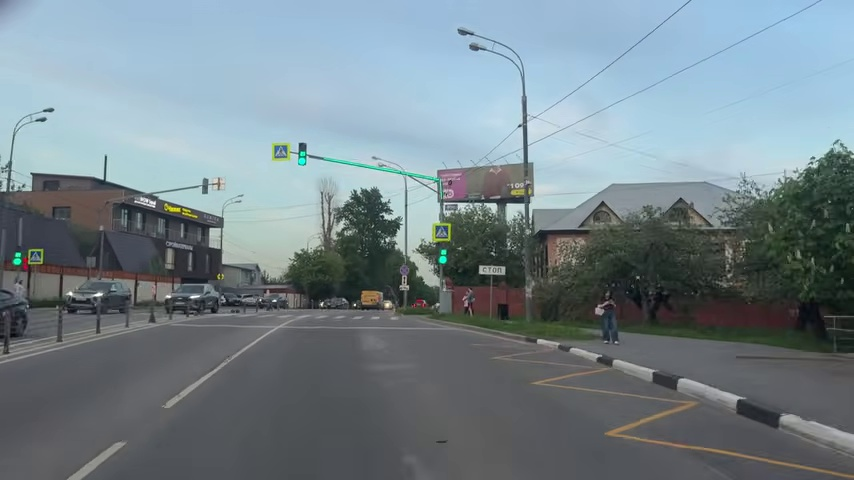apagada: (458, 34, 489, 58), (457, 29, 483, 55), (455, 25, 477, 46), (33, 108, 55, 127)
